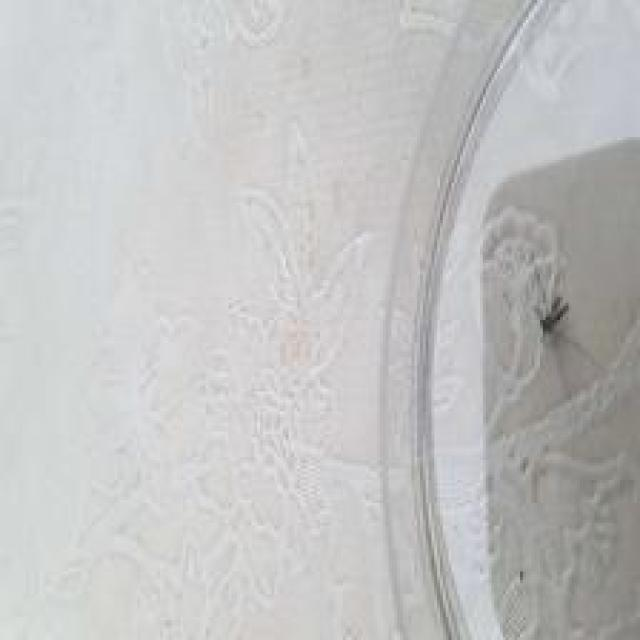Aedes albopictus: (474, 134, 640, 640)
